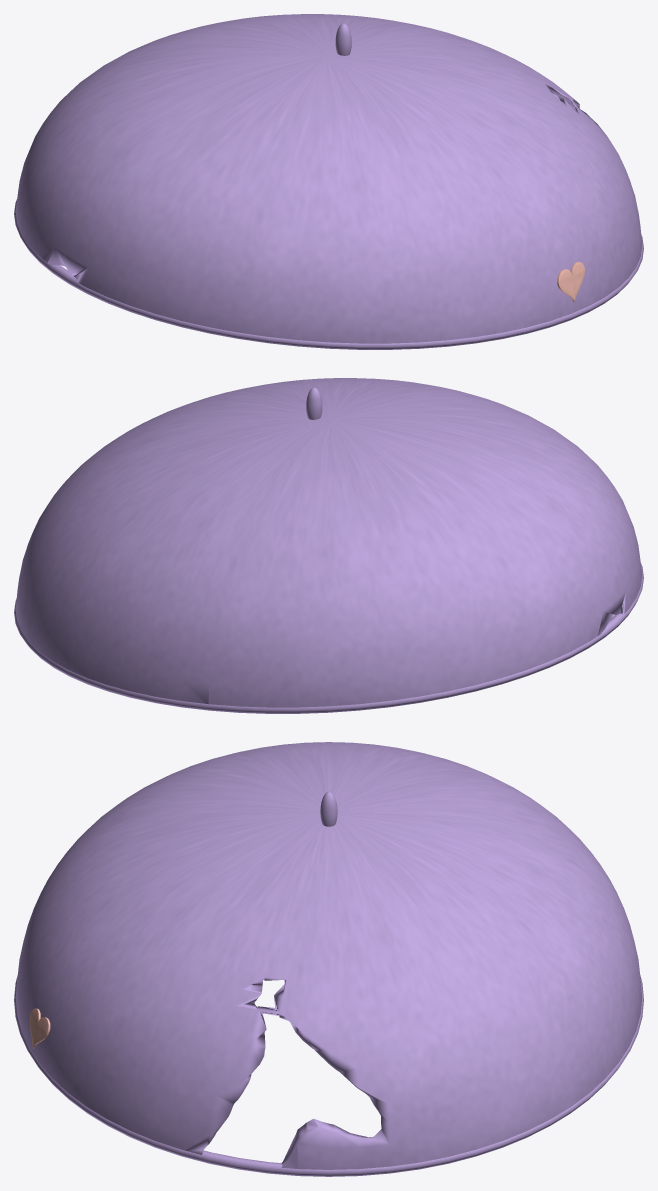
Rendered from restart_headfinish_beret_chic_pig.glb.
3 renders of one model, top to bottom at view 1: azimuth 30°, elevation 25°; view 2: azimuth 150°, elevation 25°; view 3: azimuth 270°, elevation 25°, orthographic. The views are drawn at different scales.
Visible parts, largest first — view 1: Copa redondeada.011, Banda inferior.011, Corazón bordado.008; view 2: Copa redondeada.011, Banda inferior.011; view 3: Copa redondeada.011, Banda inferior.011.
Boxes of the visible parts, x1,y1,x2,y2 form: Copa redondeada.011: (15,14,642,343); Banda inferior.011: (14,199,643,349); Corazón bordado.008: (557,262,584,301); Copa redondeada.011: (15,378,642,707); Banda inferior.011: (14,563,643,713); Copa redondeada.011: (15,742,642,1169); Banda inferior.011: (14,976,643,1176).
Bounding box in the file's own units: 0.941 × 0.3835 × 0.874.
2 materials, 2 textured.
